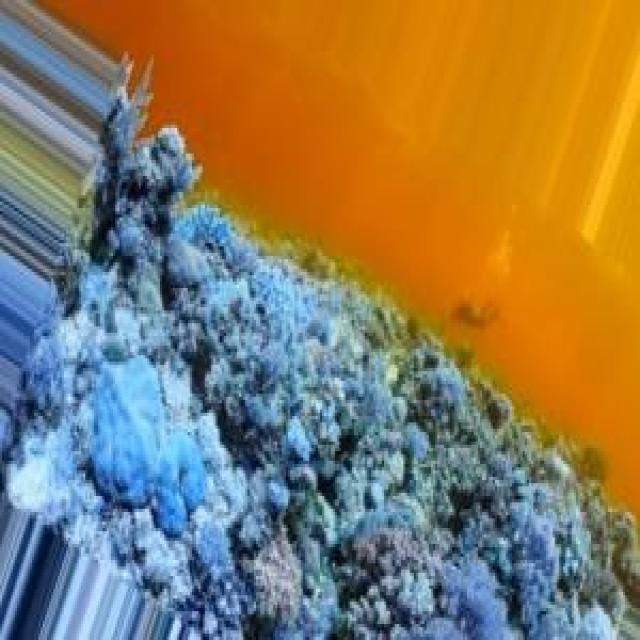Healthy: (5, 97, 640, 640)
